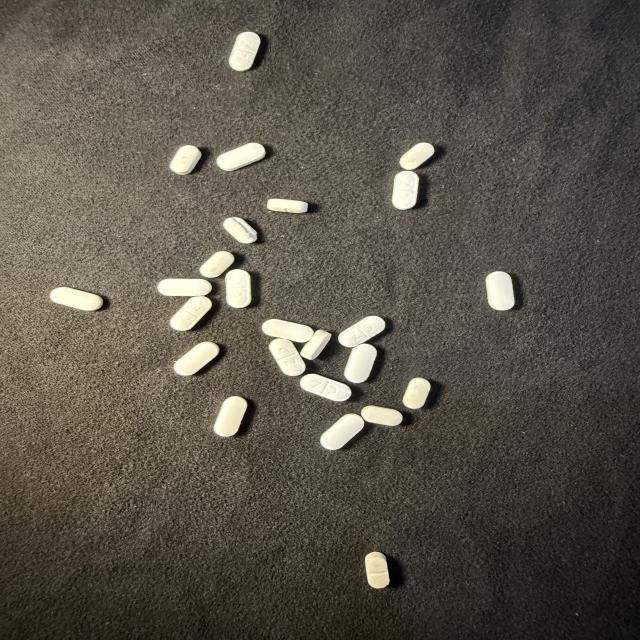pill: (320, 414, 364, 449), (174, 342, 219, 375), (338, 316, 385, 347), (170, 297, 212, 330), (300, 374, 351, 401), (216, 143, 265, 171), (269, 338, 305, 376), (214, 396, 247, 436), (344, 344, 376, 383), (50, 287, 103, 310), (229, 32, 260, 71), (262, 319, 313, 342), (486, 272, 514, 310), (392, 171, 419, 209), (226, 270, 251, 308), (170, 145, 201, 175), (400, 143, 434, 170), (158, 279, 211, 296), (200, 251, 234, 277), (223, 217, 257, 243), (301, 330, 331, 359), (365, 552, 389, 588), (403, 378, 430, 409), (361, 406, 402, 426), (267, 199, 307, 213)
